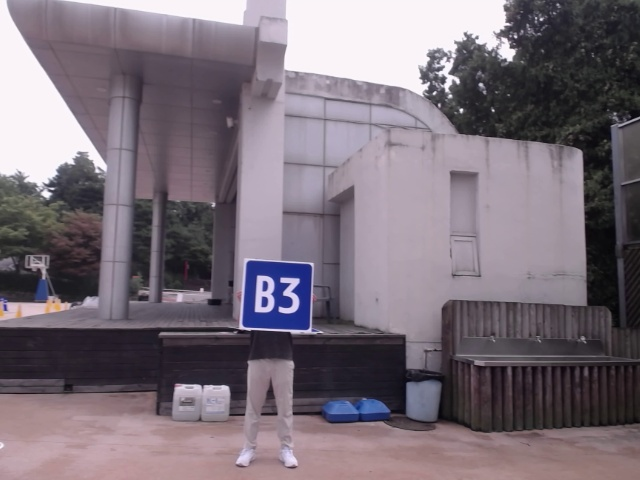delivery_b3: (243, 260, 314, 331)
